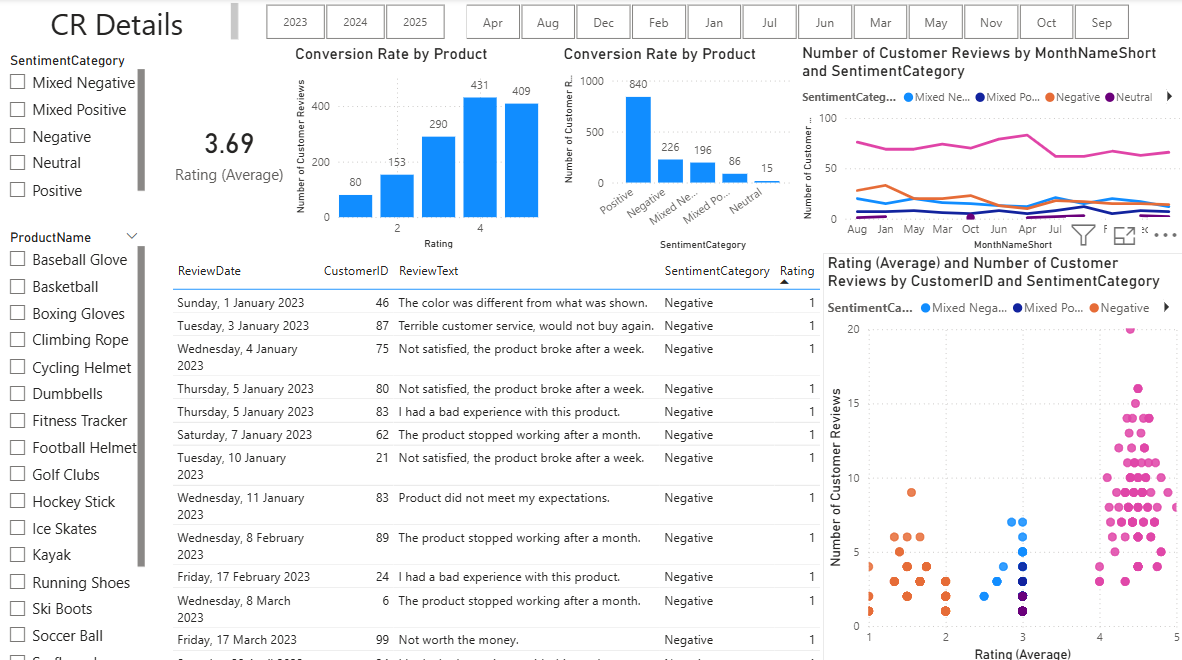

The dashboard page shown, as its layout file describes it:
{"tool":"powerbi","page":{"name":"Customer Reviews Details","canvas":[1280,720],"ordinal":3},"visuals":[{"type":"slicer","fields":{"Values":["Calendar.MonthNameShort"]},"box":[480,0,765.4,51],"z":0},{"type":"textbox","box":[0,0,264.6,51],"z":1000},{"type":"slicer","fields":{"Values":["products.ProductName"]},"box":[0,244.5,163.5,476.1],"z":2000},{"type":"card","fields":{"Values":["_Calculations.Rating (Average)"]},"box":[183,53.4,132.8,223.5],"z":3000},{"type":"slicer","fields":{"Values":["Calendar.Year"]},"box":[264.6,0,241.9,51],"z":4000},{"type":"columnChart","title":"Conversion Rate by Product","fields":{"Category":["customer_reviews_with_sentiment.Rating"],"Y":["_Calculations.Number of Customer Reviews"]},"box":[315.7,50.2,272,225.1],"z":5000},{"type":"columnChart","title":"Conversion Rate by Product","fields":{"Y":["_Calculations.Number of Customer Reviews"],"Category":["customer_reviews_with_sentiment.SentimentCategory"]},"box":[605.6,50.2,257.5,226.7],"z":6000},{"type":"lineChart","fields":{"Category":["Calendar.MonthNameShort"],"Y":["_Calculations.Number of Customer Reviews"],"Series":["customer_reviews_with_sentiment.SentimentCategory"]},"box":[863,48.6,417.8,228.3],"z":7000},{"type":"tableEx","fields":{"Values":["customer_reviews_with_sentiment.ReviewDate","customers_info.CustomerID","customer_reviews_with_sentiment.ReviewText","customer_reviews_with_sentiment.SentimentCategory","customer_reviews_with_sentiment.Rating"]},"box":[183,276.9,722.2,443.7],"z":8000},{"type":"scatterChart","fields":{"X":["_Calculations.Rating (Average)"],"Y":["_Calculations.Number of Customer Reviews"],"Category":["customer_reviews_with_sentiment.CustomerID"],"Series":["customer_reviews_with_sentiment.SentimentCategory"]},"box":[890.6,275.3,390.2,445.3],"z":9000},{"type":"slicer","fields":{"Values":["customer_reviews_with_sentiment.SentimentCategory"]},"box":[0,53.4,163.5,171.6],"z":10000}]}

Visuals, with their boxes in screenshot pixels (x1, y1, x2, y2), scaled from the page's 1280x720 canvas onto the 1182x660 screenshot:
slicer - Calendar.MonthNameShort: box(443, 0, 1150, 47)
textbox: box(0, 0, 244, 47)
slicer - products.ProductName: box(0, 224, 151, 659)
card - _Calculations.Rating (Average): box(169, 49, 292, 254)
slicer - Calendar.Year: box(244, 0, 468, 47)
"Conversion Rate by Product" columnChart: box(292, 46, 543, 252)
"Conversion Rate by Product" columnChart: box(559, 46, 797, 254)
lineChart - Calendar.MonthNameShort x _Calculations.Number of Customer Reviews: box(797, 45, 1181, 254)
tableEx - customer_reviews_with_sentiment.ReviewDate x customers_info.CustomerID: box(169, 254, 836, 659)
scatterChart - _Calculations.Rating (Average) x _Calculations.Number of Customer Reviews: box(822, 252, 1181, 659)
slicer - customer_reviews_with_sentiment.SentimentCategory: box(0, 49, 151, 206)
